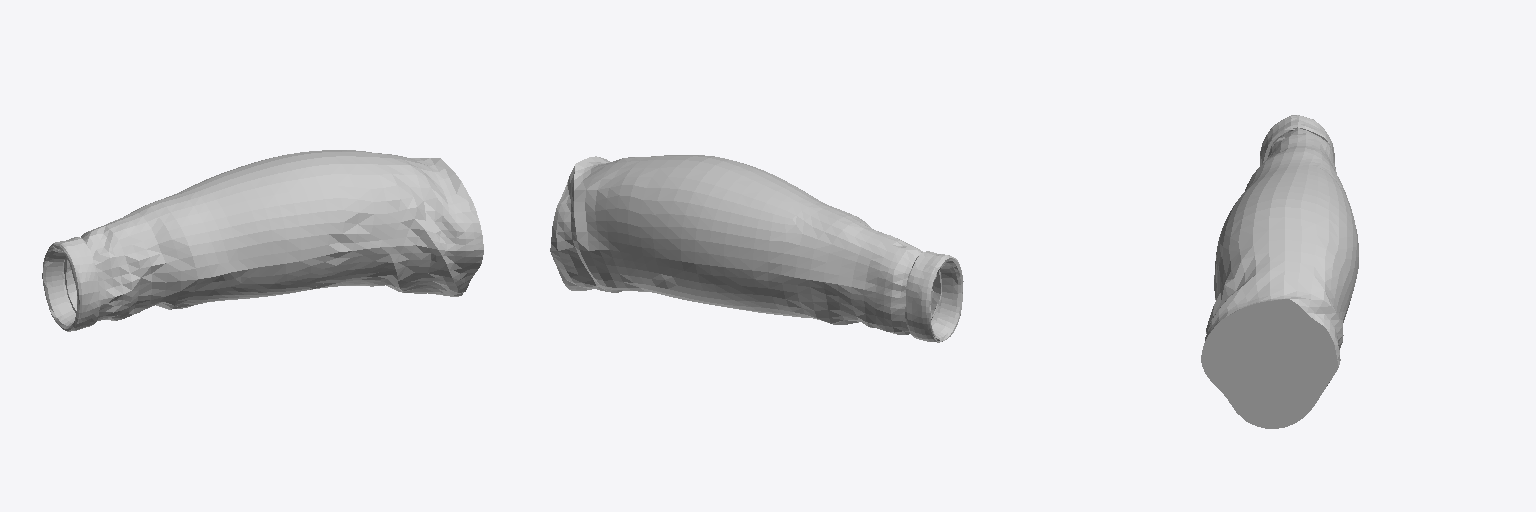
File: calf_l.obj
3 renders of one model, left to right at view 1: azimuth 30°, elevation 25°; view 2: azimuth 150°, elevation 25°; view 3: azimuth 270°, elevation 25°, orthographic.
Parts seen in each view (by area): view 1: lowerleg_l_1_Legs_UV1.012; view 2: lowerleg_l_1_Legs_UV1.012; view 3: lowerleg_l_1_Legs_UV1.012.
Part boxes in pixels (bbox=[...]): lowerleg_l_1_Legs_UV1.012: bbox=[42, 150, 483, 331]; lowerleg_l_1_Legs_UV1.012: bbox=[550, 155, 963, 342]; lowerleg_l_1_Legs_UV1.012: bbox=[1201, 115, 1358, 428].
Bounding box in the file's own units: 0.328 × 0.1352 × 0.1196.